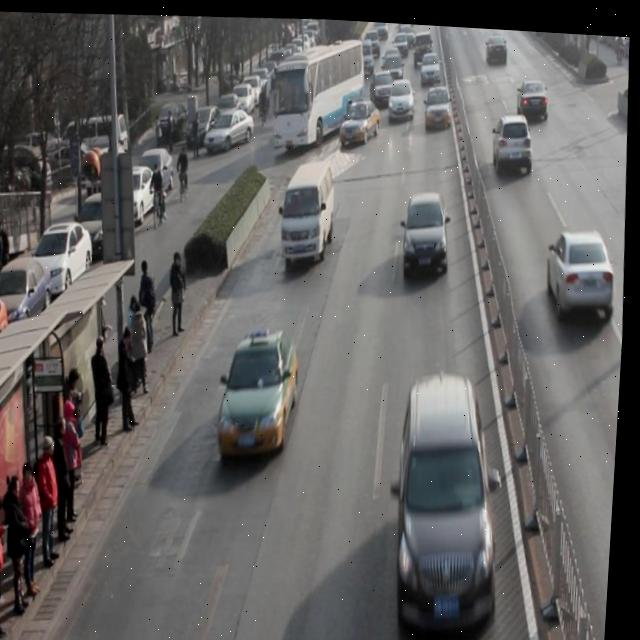car: (392, 365, 515, 635), (218, 327, 308, 460), (547, 221, 622, 316), (402, 186, 453, 273), (492, 107, 537, 171), (337, 95, 384, 144), (517, 71, 551, 118), (386, 71, 417, 119), (423, 79, 454, 127), (368, 65, 396, 106)
truck: (279, 155, 341, 265)
van: (270, 32, 370, 151)
